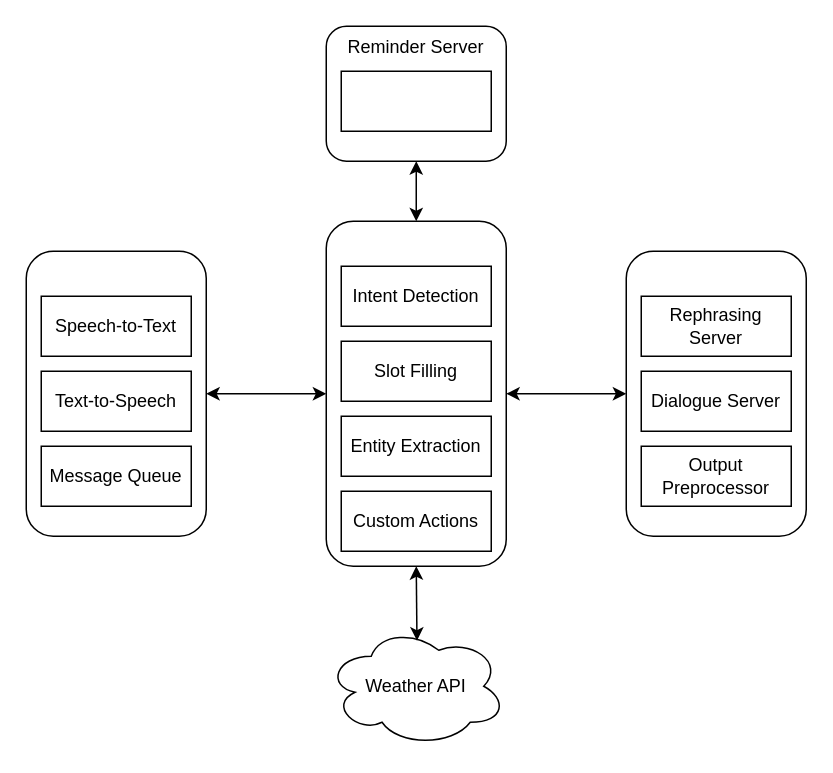
Some shapes in this 833 by 773 pixel diagram are drawn without their labels. Here are the shapes that lost their labels. From the top down, the box of each, then its label:
(340, 70, 491, 131): Task Scheduler
(25, 250, 206, 536): Chat Controller
(325, 220, 506, 566): Rasa Core
(625, 250, 806, 536): Odin Humanizer
